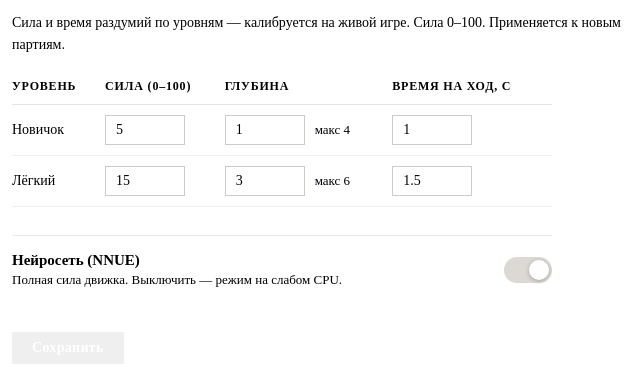
каскад: смена глубины Новичка двигает нижнюю границу Лёгкого
// Меняем глубину Новичка на 4 → нижняя Лёгкого тоже должна стать 4
Replace the text in the number field named "Новичок глубина" with "4": {"x": 265, "y": 130} [225, 115, 305, 145]
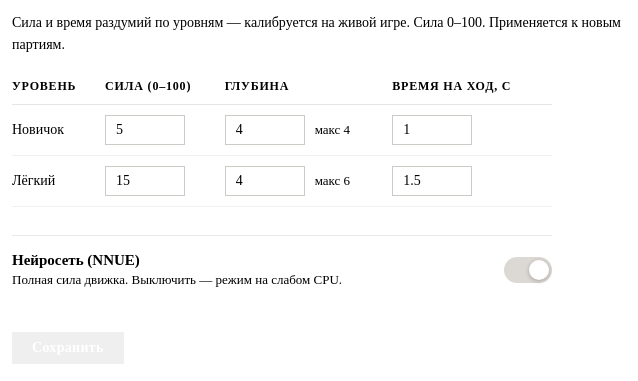
expect the number field named "Лёгкий глубина" holds "4": met, box [225, 166, 305, 196]
